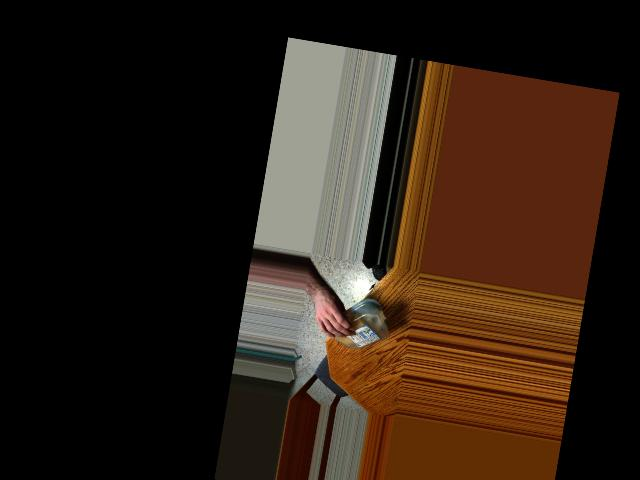cheese: (319, 294, 394, 355)
